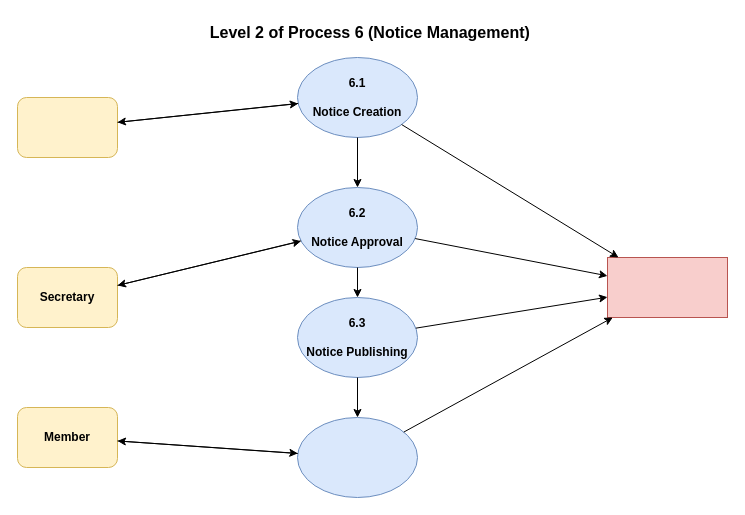
Some shapes in this 745 by 515 pixel diagram are drawn without their labels. Each missing label, with the centre of its shape:
6.4 Notice Distribution: (357,457)
Manager: (67,127)
Notice Database: (667,287)
